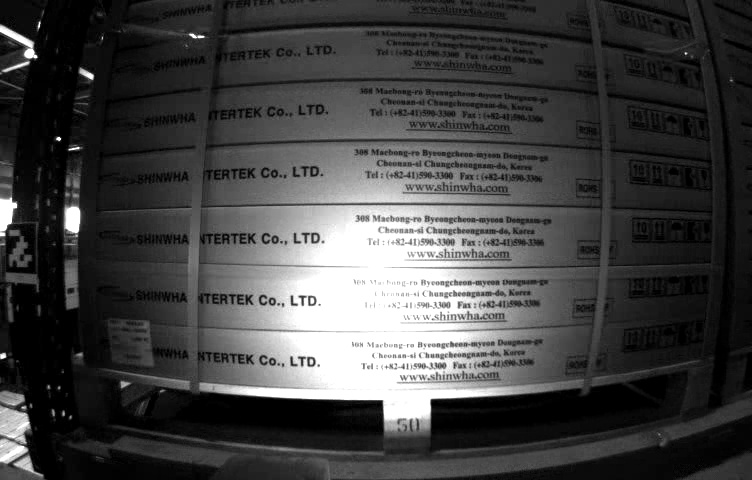True Barcode: (109, 317, 153, 370)
